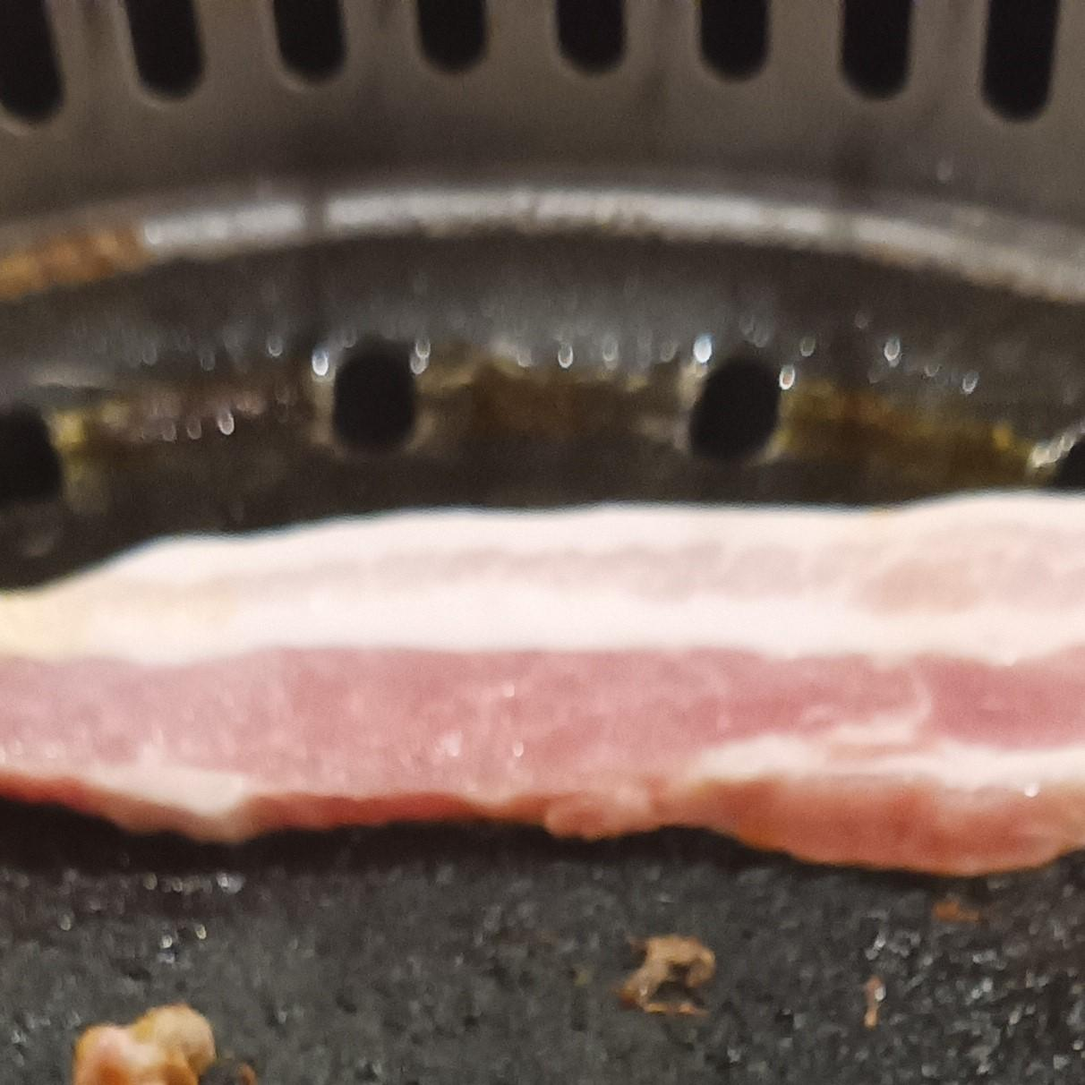Undercooked: (0, 495, 1084, 875)
